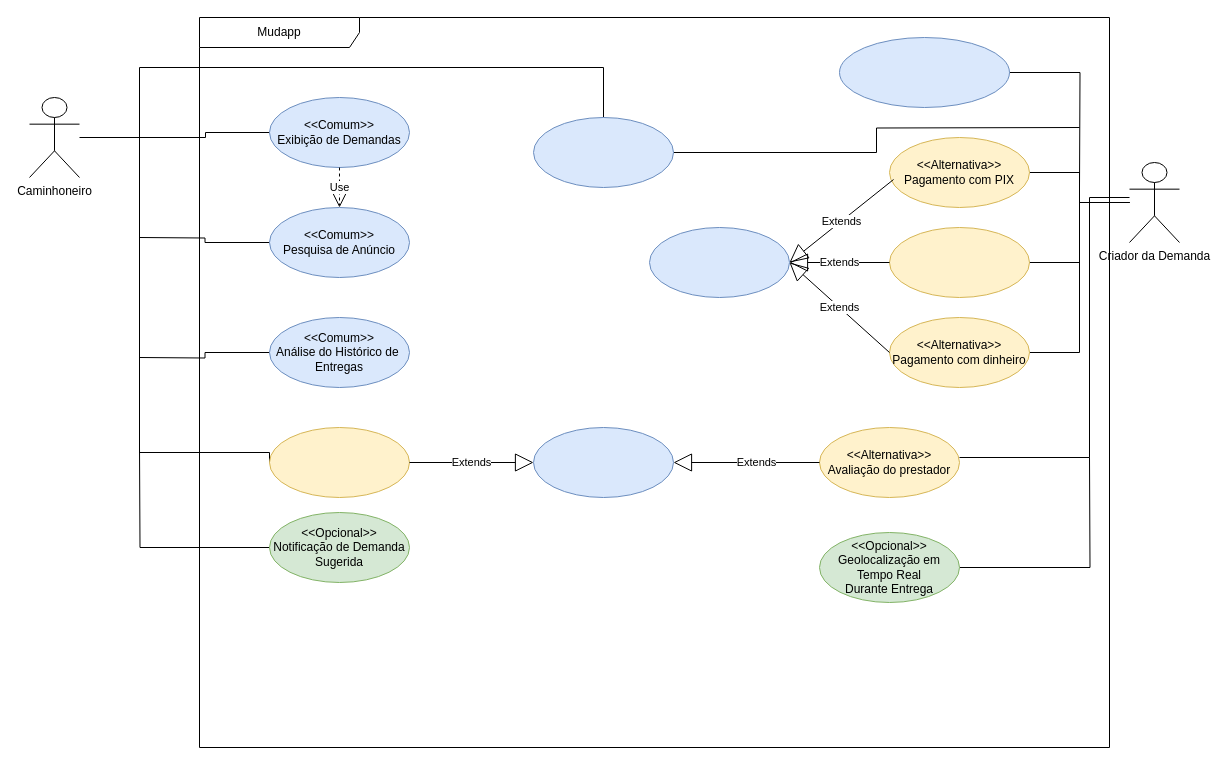
This 1227x765 diagram has some shape labels left out. Each missing label, with the centre of its shape:
"<<Alternativa>> Avaliação do solicitante" goes at (x=339, y=462).
"<<Alternativa>> Pagamento com cartão de crédito" goes at (x=959, y=262).
"<<Comum>> Avaliação" goes at (x=603, y=462).
"<<Comum>> Chat" goes at (x=603, y=152).
"<<Comum>> Pagamento" goes at (x=719, y=262).
"<<Comum>> Verificar informações do veículo do prestador" goes at (x=924, y=72).
